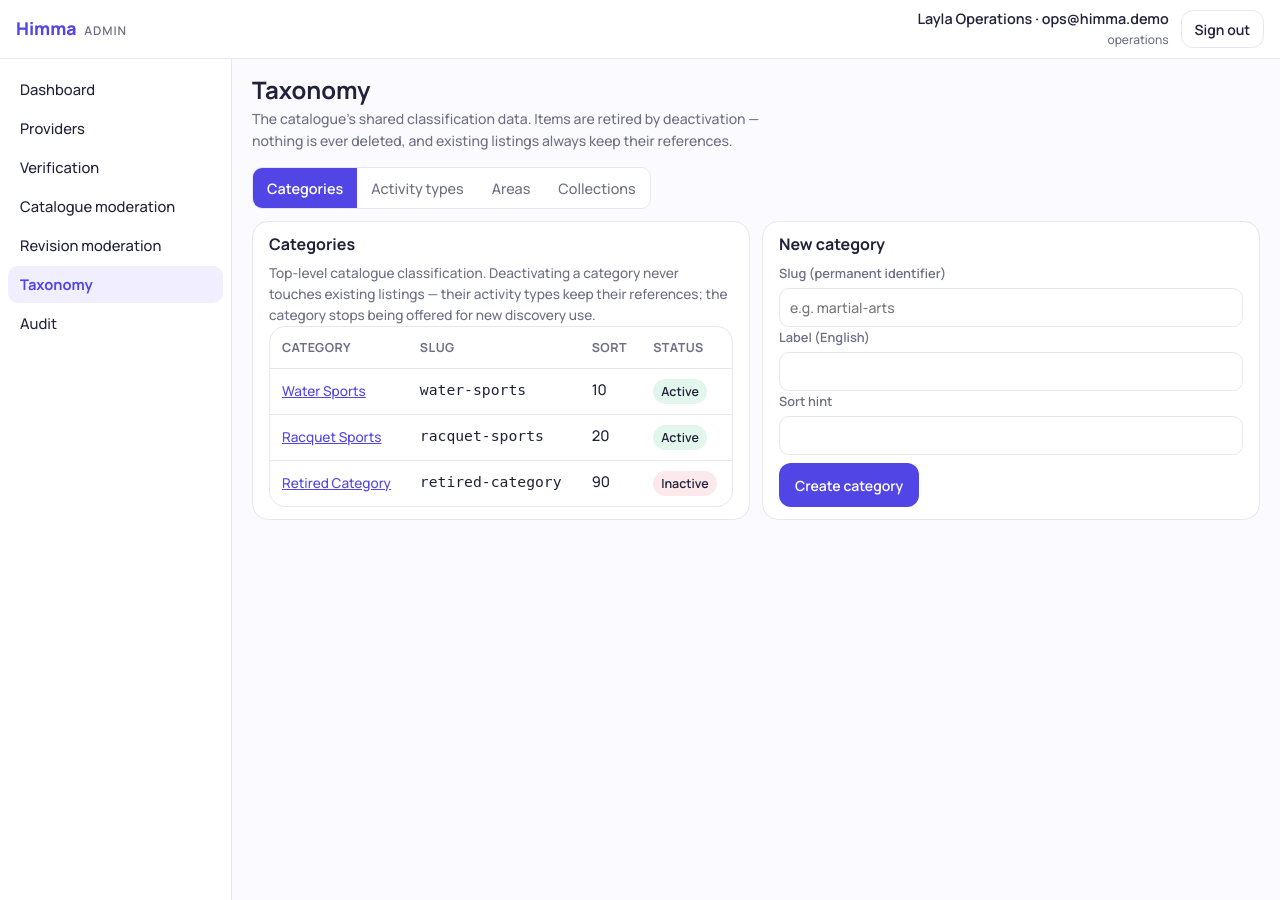
Test: the taxonomy workspace (four distinct resource types) › activity types show their lifetime parent category; areas and collections keep their own identities
Expected: the button "Water Sports" is shown, top-left (282, 379), bottom-right (366, 403)
Step 1. Click the button "Activity types" → (417, 188), box top-left (357, 168), bottom-right (478, 208)
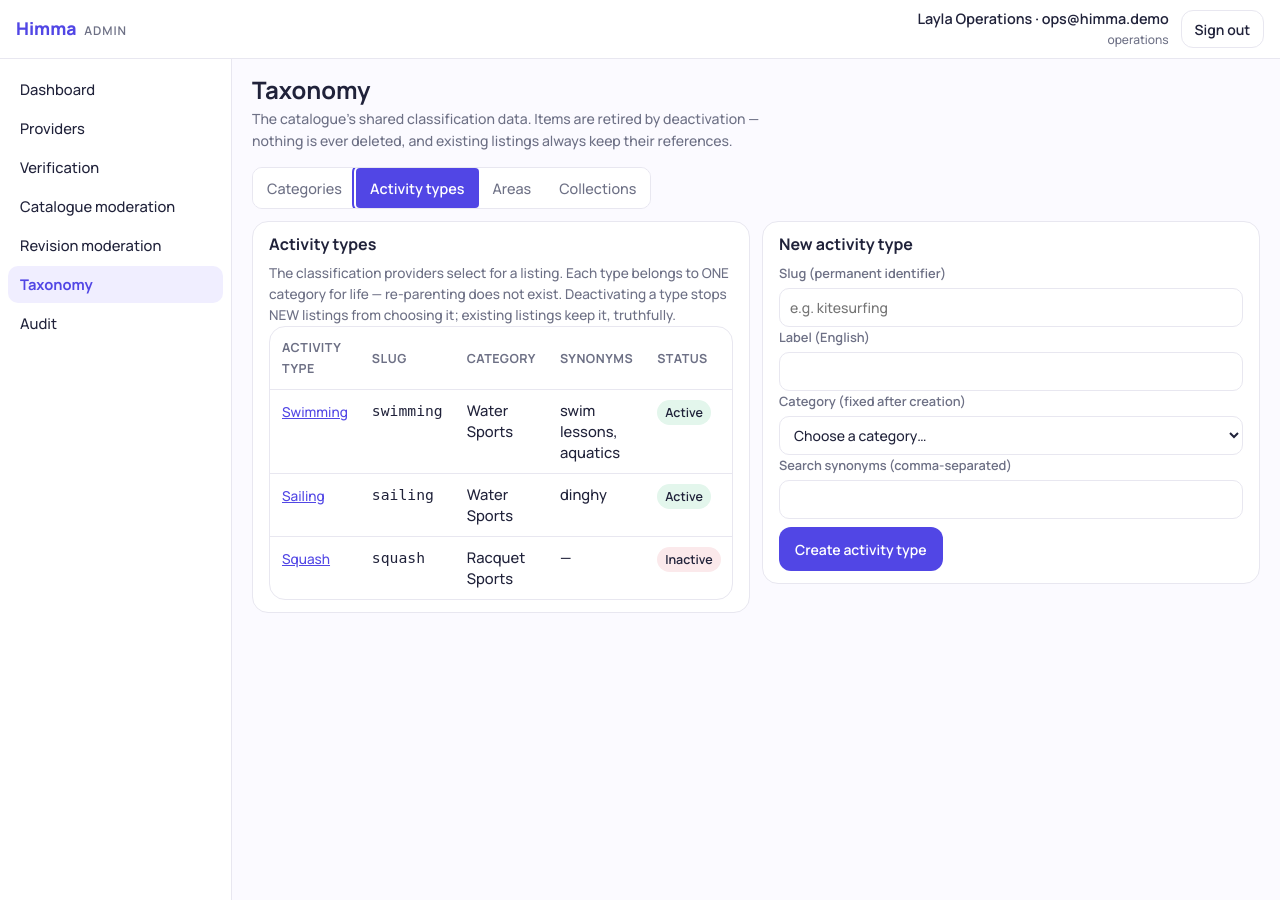
Expected: the text "Racquet Sports" is shown, top-left (455, 537), bottom-right (548, 599)
Expected: the button "Swimming" is shown, top-left (282, 400), bottom-right (348, 424)
Step 2. Click the button "Areas" → (512, 188), box top-left (478, 168), bottom-right (545, 208)
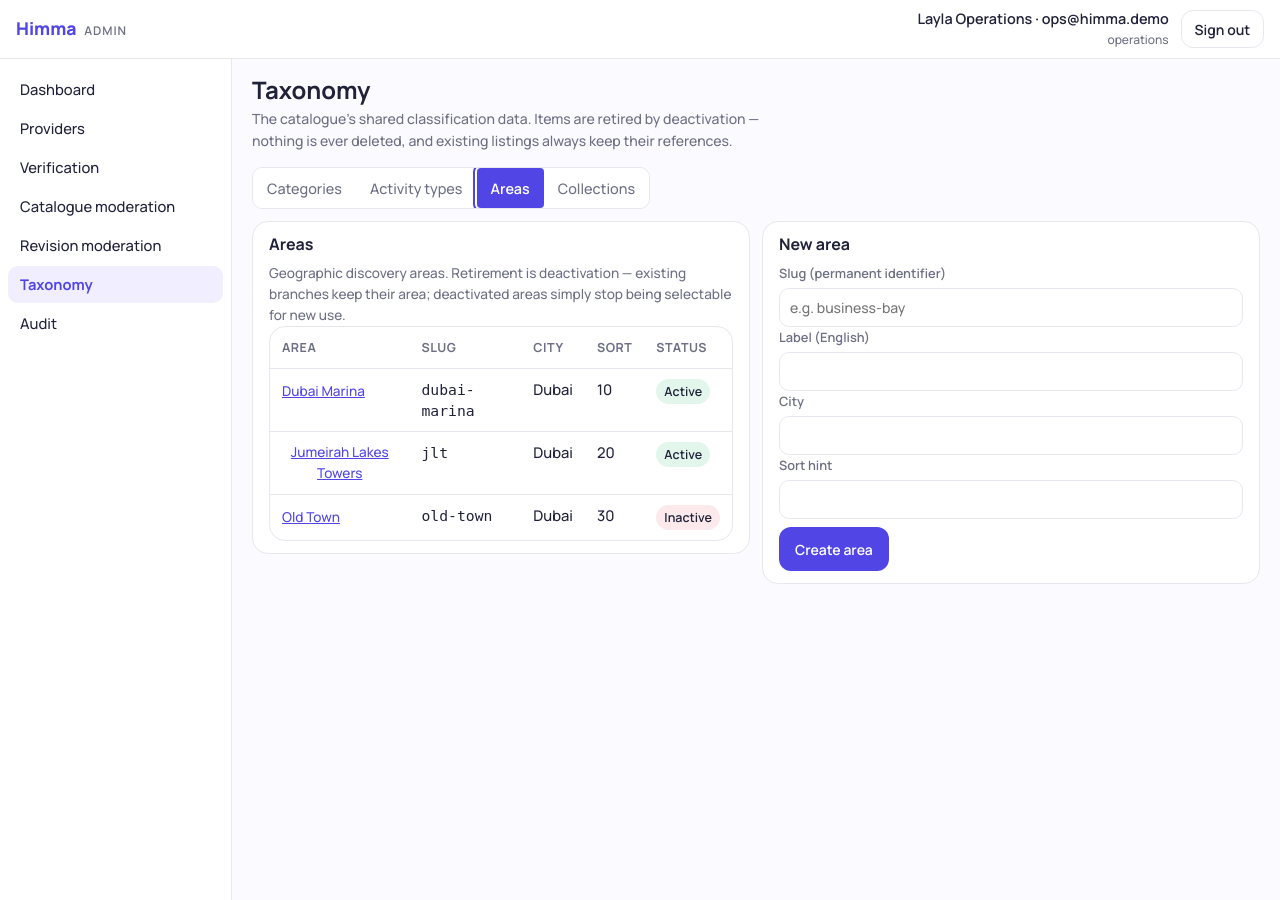
Expected: the button "Dubai Marina" is shown, top-left (282, 379), bottom-right (365, 403)
Expected: the button "Old Town" is shown, top-left (282, 505), bottom-right (340, 529)
Step 3. Click the button "Collections" → (596, 188), box top-left (544, 168), bottom-right (649, 208)
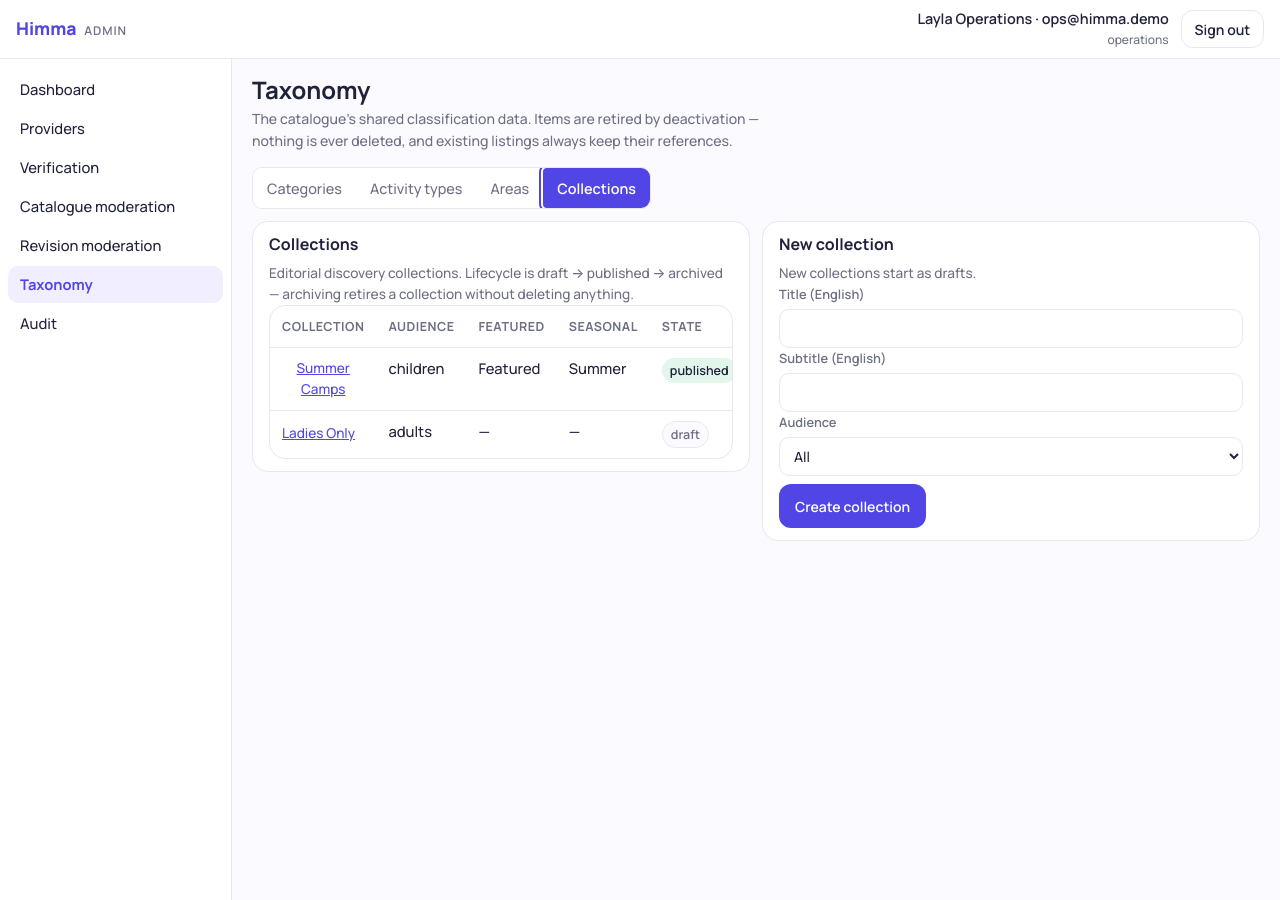
Expected: the button "Summer Camps" is shown, top-left (282, 358), bottom-right (364, 400)
Expected: the text "published" is shown, top-left (662, 358), bottom-right (733, 383)
Expected: the text "Featured" is shown, top-left (466, 348), bottom-right (557, 411)
